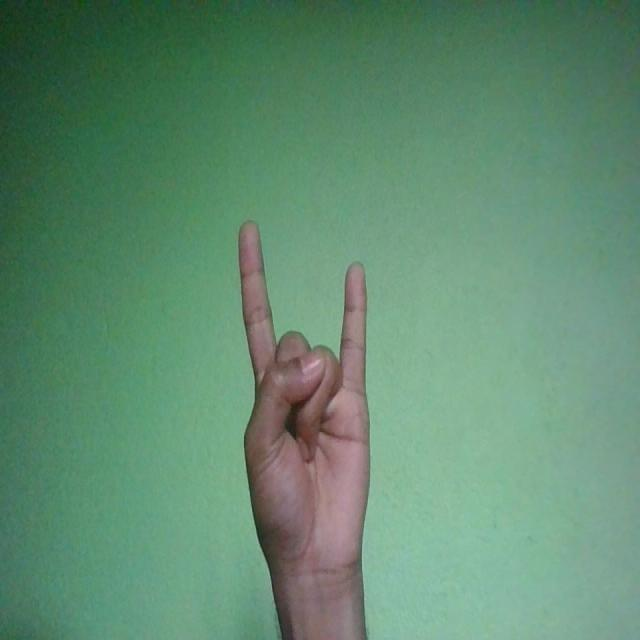open Plam: (239, 219, 369, 587)
